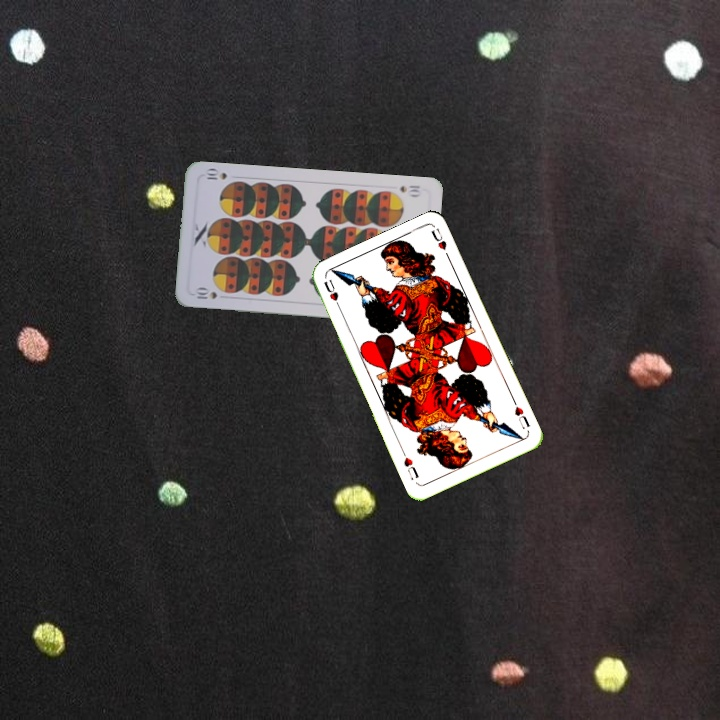HU: (320, 275, 344, 313), (509, 396, 533, 432)
S10: (191, 285, 220, 302), (396, 181, 423, 199)
